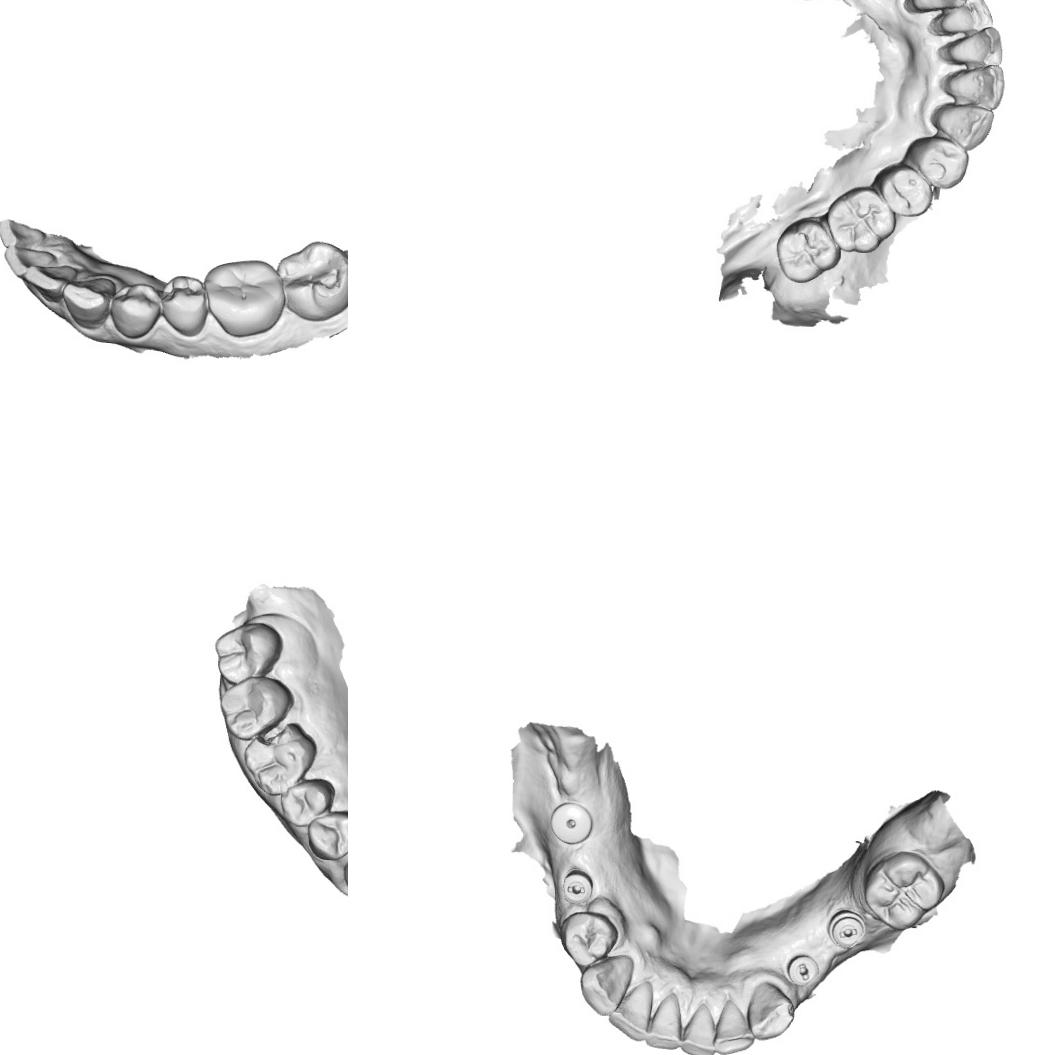canine: (574, 956, 639, 1019), (926, 100, 995, 152), (60, 274, 117, 332), (745, 978, 796, 1042)
implant: (546, 797, 600, 849)
implant_minus: (826, 904, 868, 952), (555, 860, 596, 904), (782, 950, 822, 990)
incisor: (939, 60, 1006, 112), (605, 982, 660, 1044), (642, 989, 690, 1053), (709, 996, 756, 1055), (674, 1000, 723, 1055), (946, 25, 1006, 68), (1, 241, 53, 284), (938, 0, 996, 38), (23, 262, 73, 305), (0, 215, 49, 250), (906, 0, 966, 23)
molar: (860, 850, 946, 932), (203, 256, 285, 339), (274, 236, 348, 322), (238, 719, 318, 798), (216, 673, 294, 743), (826, 184, 898, 255), (772, 214, 843, 285), (212, 620, 284, 686)
premolar: (902, 133, 972, 192), (871, 158, 933, 219), (158, 272, 214, 338), (558, 910, 620, 968), (106, 277, 163, 340), (276, 776, 337, 830), (302, 808, 348, 864)
